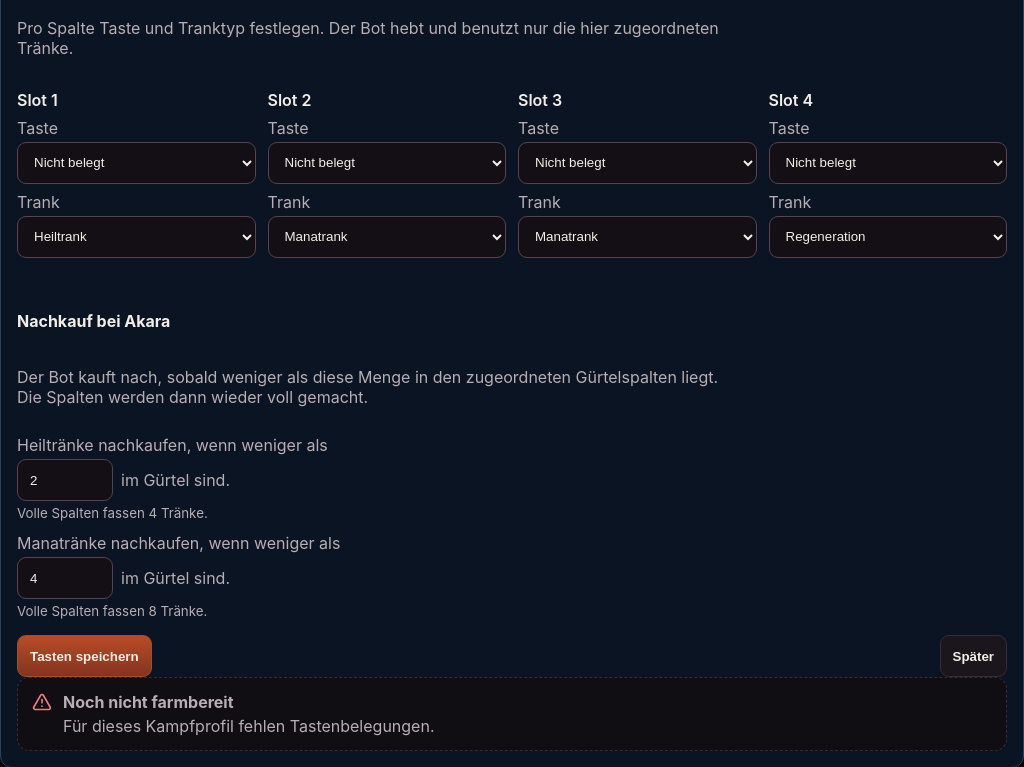
Scenario: CharacterSetupWizard › erlaubt Später im Onboarding ohne sofortiges Speichern
(page scrolled)
Click the button "Später": (973, 656) [940, 635, 1007, 677]
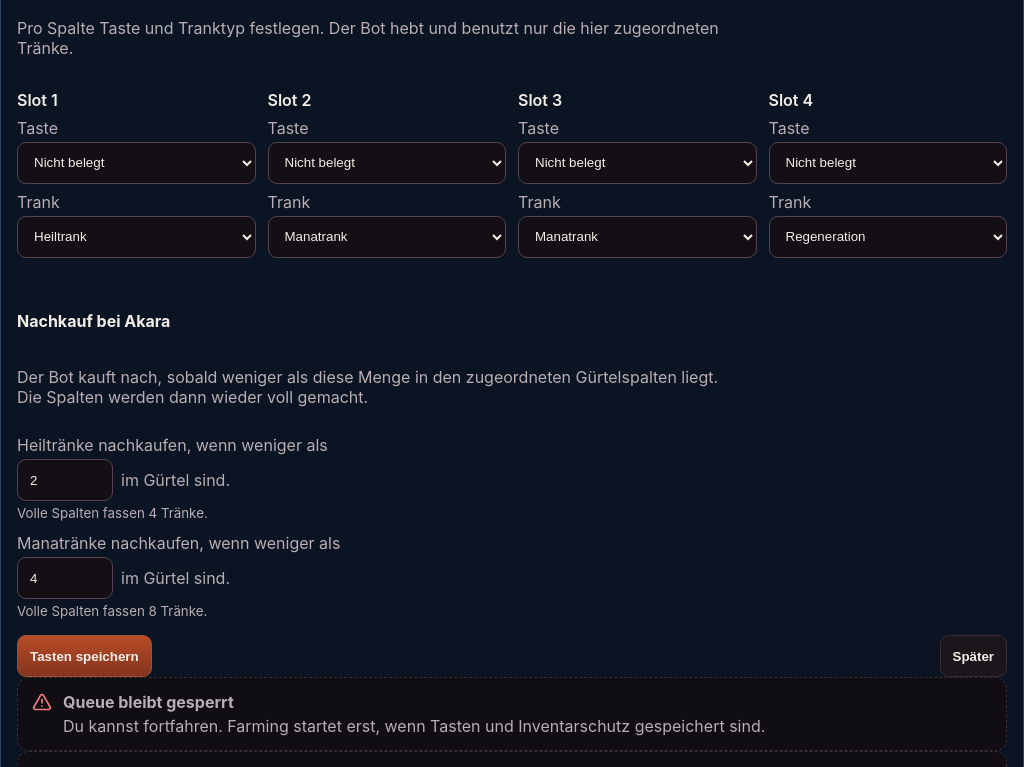
Expected: the text "Queue bleibt gesperrt" is shown, [63, 692, 234, 712]
